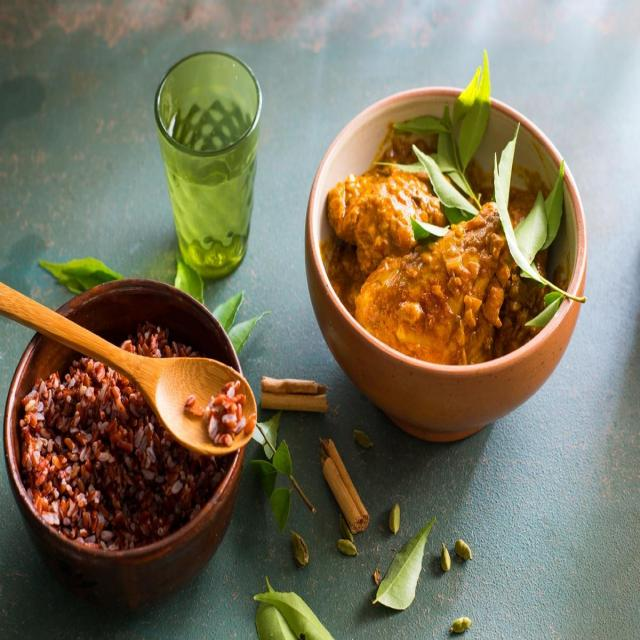chicken: (326, 153, 532, 362)
